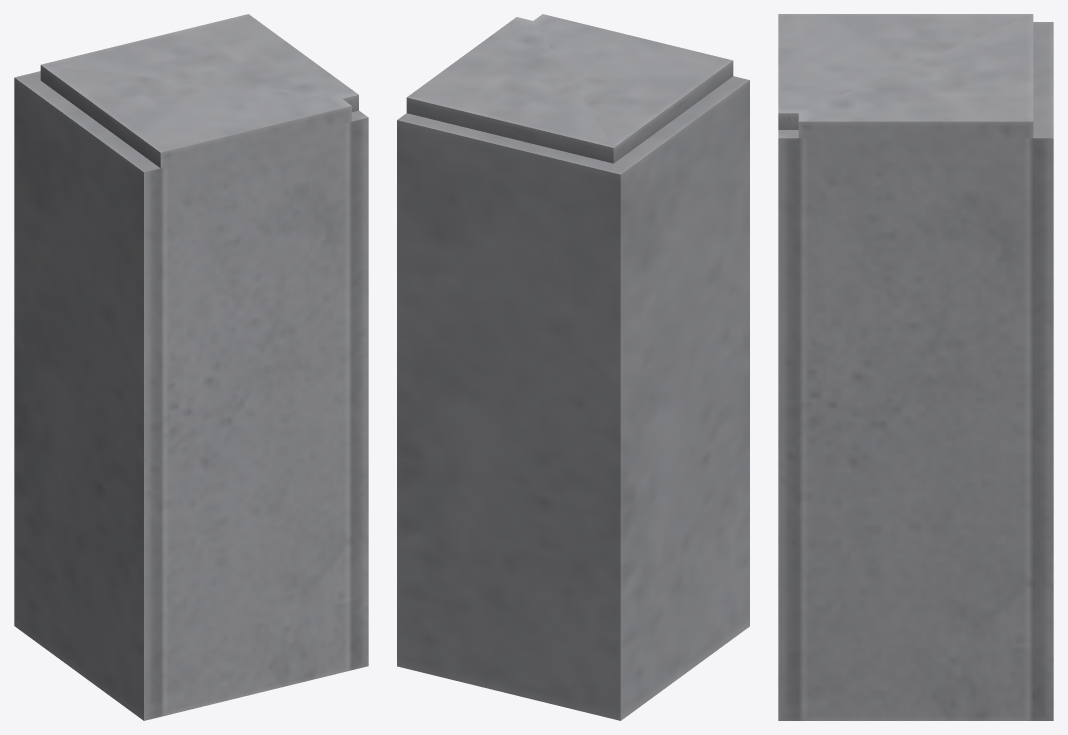
Rendered from set_curb_straight_corner.fbx.
The picture shows the model from 3 angles, left to right: view 1: azimuth 30°, elevation 25°; view 2: azimuth 150°, elevation 25°; view 3: azimuth 270°, elevation 25°; orthographic projection. The views are drawn at different scales.
Parts seen in each view (by area): view 1: set_curb_straight_corner; view 2: set_curb_straight_corner; view 3: set_curb_straight_corner.
Boxes of the visible parts, x1=… form: set_curb_straight_corner: x1=14, y1=14, x2=368, y2=720; set_curb_straight_corner: x1=397, y1=14, x2=749, y2=720; set_curb_straight_corner: x1=778, y1=14, x2=1053, y2=720.
Bounding box in the file's own units: 30 × 72 × 30.
